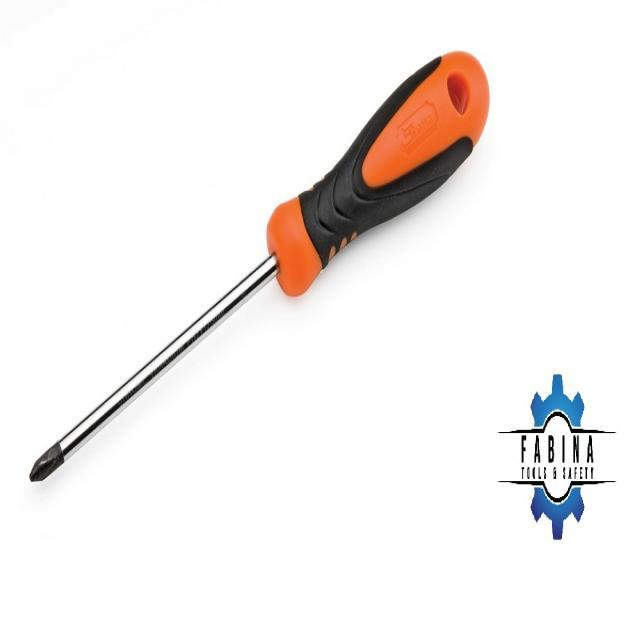screwdriver: (27, 46, 497, 486)
